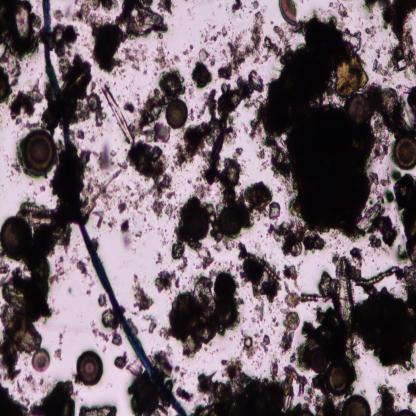Background material: (258, 12, 382, 238), (0, 228, 71, 380), (355, 260, 416, 376), (79, 2, 173, 76), (159, 271, 239, 357), (297, 304, 359, 414), (195, 357, 312, 415), (205, 71, 263, 183), (218, 160, 272, 244), (362, 0, 416, 78), (130, 70, 184, 143), (126, 143, 176, 217), (174, 88, 220, 167), (52, 146, 94, 229), (216, 10, 264, 81), (173, 196, 216, 266), (235, 240, 282, 304), (0, 376, 75, 415), (368, 81, 416, 139), (388, 170, 416, 264), (0, 0, 42, 61), (59, 54, 91, 126), (265, 220, 327, 257), (89, 160, 121, 230), (356, 202, 398, 250), (371, 382, 416, 416), (127, 374, 163, 414), (10, 79, 40, 123), (52, 7, 78, 57), (115, 184, 148, 220), (277, 308, 302, 355), (191, 48, 217, 87), (129, 274, 154, 313), (264, 25, 291, 61), (121, 43, 149, 76), (40, 88, 60, 132), (151, 349, 176, 382), (84, 93, 106, 126), (153, 44, 178, 70), (155, 268, 176, 296), (188, 179, 213, 202), (0, 62, 13, 106), (238, 330, 257, 360), (120, 221, 138, 252), (48, 257, 67, 285), (202, 23, 226, 45), (368, 168, 388, 194), (78, 402, 119, 414), (370, 59, 393, 80), (98, 146, 118, 170), (4, 157, 24, 181), (283, 280, 300, 308), (89, 323, 110, 344), (101, 308, 119, 331), (75, 255, 91, 280), (52, 332, 65, 362), (174, 386, 195, 404), (125, 356, 142, 376), (329, 2, 350, 18), (283, 262, 299, 283), (8, 60, 21, 85), (252, 297, 265, 322), (113, 352, 129, 372), (406, 376, 416, 406), (267, 357, 279, 381), (156, 227, 170, 247), (260, 333, 272, 356), (145, 315, 158, 335), (268, 201, 281, 221), (111, 330, 124, 348), (164, 204, 180, 218), (86, 280, 96, 298), (75, 128, 86, 144), (233, 144, 245, 158), (230, 0, 244, 12), (124, 101, 135, 115), (175, 364, 186, 378), (97, 294, 108, 308), (187, 81, 195, 100), (183, 44, 193, 58), (155, 251, 164, 265), (38, 183, 46, 192), (253, 0, 260, 10)
Cotton: (42, 0, 186, 415)
Diatom: (101, 86, 135, 146), (335, 256, 357, 335), (22, 128, 55, 173), (0, 216, 33, 261), (16, 202, 56, 229), (77, 350, 104, 388), (355, 266, 399, 288), (346, 93, 372, 127), (327, 362, 352, 396), (342, 392, 372, 416), (219, 207, 242, 238), (396, 137, 416, 170), (256, 256, 280, 283), (166, 98, 188, 127), (278, 0, 298, 26), (32, 349, 50, 372), (289, 238, 302, 257), (393, 44, 406, 63), (298, 291, 318, 302)
